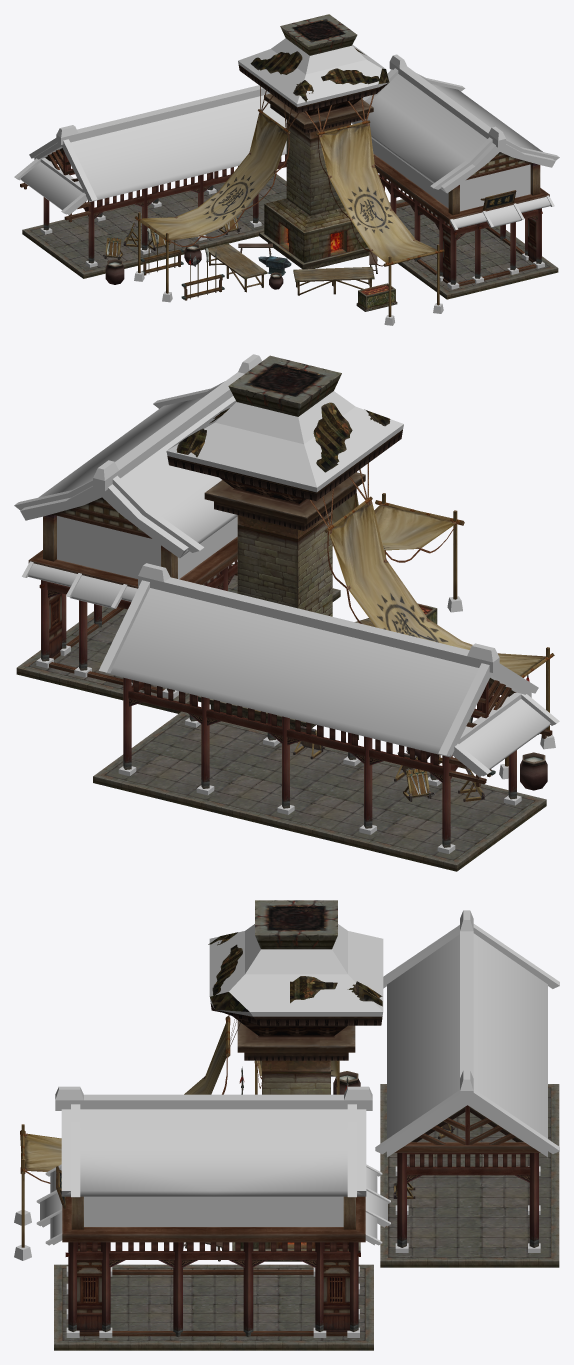
The model's file is TieJiangPu.FBX.
3 views of the same model, one above another, from view 1: azimuth 30°, elevation 25°; view 2: azimuth 150°, elevation 25°; view 3: azimuth 270°, elevation 25° (orthographic). The views are drawn at different scales.
Parts seen in each view (by area): view 1: fangzi2, fangzi1, yan, objdefault01, Object13, Object188, Box92, Cylinder02, Object19, objdefault07, Object11, Object142 (+5 smaller); view 2: fangzi2, fangzi1, yan, objdefault01, Object188, Box92, Object13, objdefault07, Object142, Box119, Box121; view 3: fangzi1, fangzi2, yan, Box92, objdefault01, Object13, Object142.
Boxes of the visible parts, left/top/right/bottom form: fangzi2: left=14, top=85, right=286, bottom=278; fangzi1: left=351, top=54, right=559, bottom=299; yan: left=238, top=14, right=389, bottom=133; objdefault01: left=259, top=120, right=369, bottom=269; Object13: left=318, top=123, right=436, bottom=266; Object188: left=141, top=112, right=289, bottom=246; Box92: left=373, top=153, right=549, bottom=224; Cylinder02: left=293, top=266, right=374, bottom=295; Object19: left=205, top=243, right=267, bottom=292; objdefault07: left=105, top=243, right=283, bottom=289; Object11: left=356, top=283, right=397, bottom=311; Object142: left=316, top=120, right=444, bottom=316; fangzi2: left=93, top=563, right=559, bottom=871; fangzi1: left=14, top=354, right=340, bottom=713; yan: left=166, top=355, right=403, bottom=530; objdefault01: left=198, top=512, right=332, bottom=729; Object188: left=327, top=500, right=545, bottom=694; Box92: left=28, top=514, right=237, bottom=588; Object13: left=332, top=493, right=457, bottom=562; objdefault07: left=406, top=747, right=547, bottom=790; Object142: left=375, top=493, right=464, bottom=599; Box119: left=324, top=496, right=554, bottom=766; Box121: left=403, top=768, right=433, bottom=801; fangzi1: left=36, top=1086, right=390, bottom=1350; fangzi2: left=375, top=910, right=559, bottom=1267; yan: left=208, top=900, right=383, bottom=1060; Box92: left=62, top=1196, right=365, bottom=1242; objdefault01: left=232, top=1060, right=360, bottom=1261; Object13: left=24, top=1023, right=227, bottom=1183; Object142: left=20, top=1016, right=230, bottom=1247.
Bounding box in the file's own units: 671 × 365 × 562.
